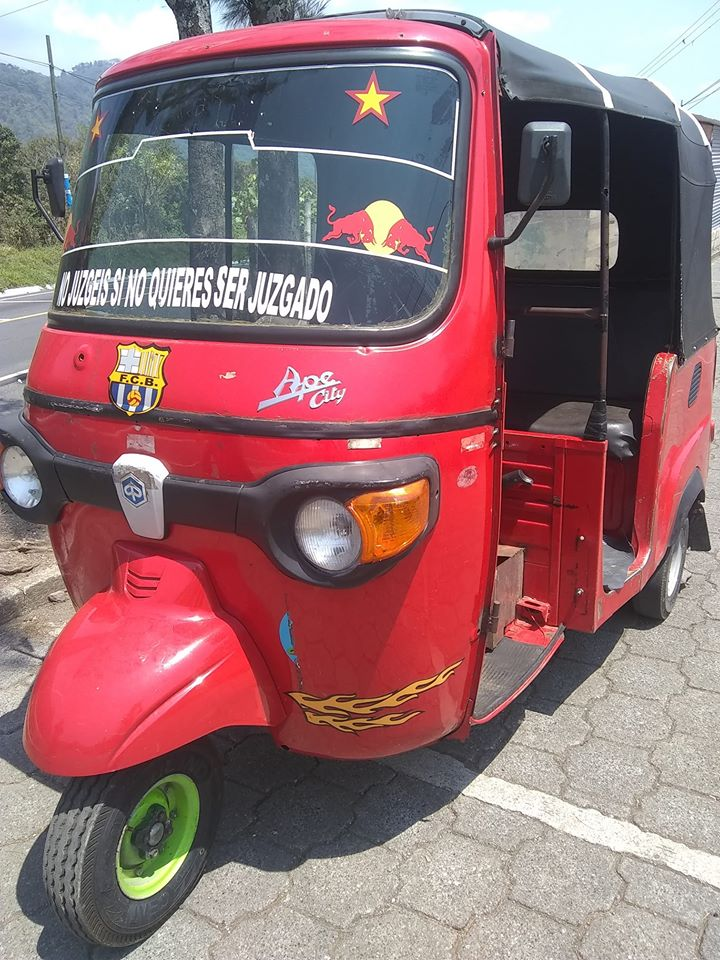mototaxi: (1, 15, 713, 936)
